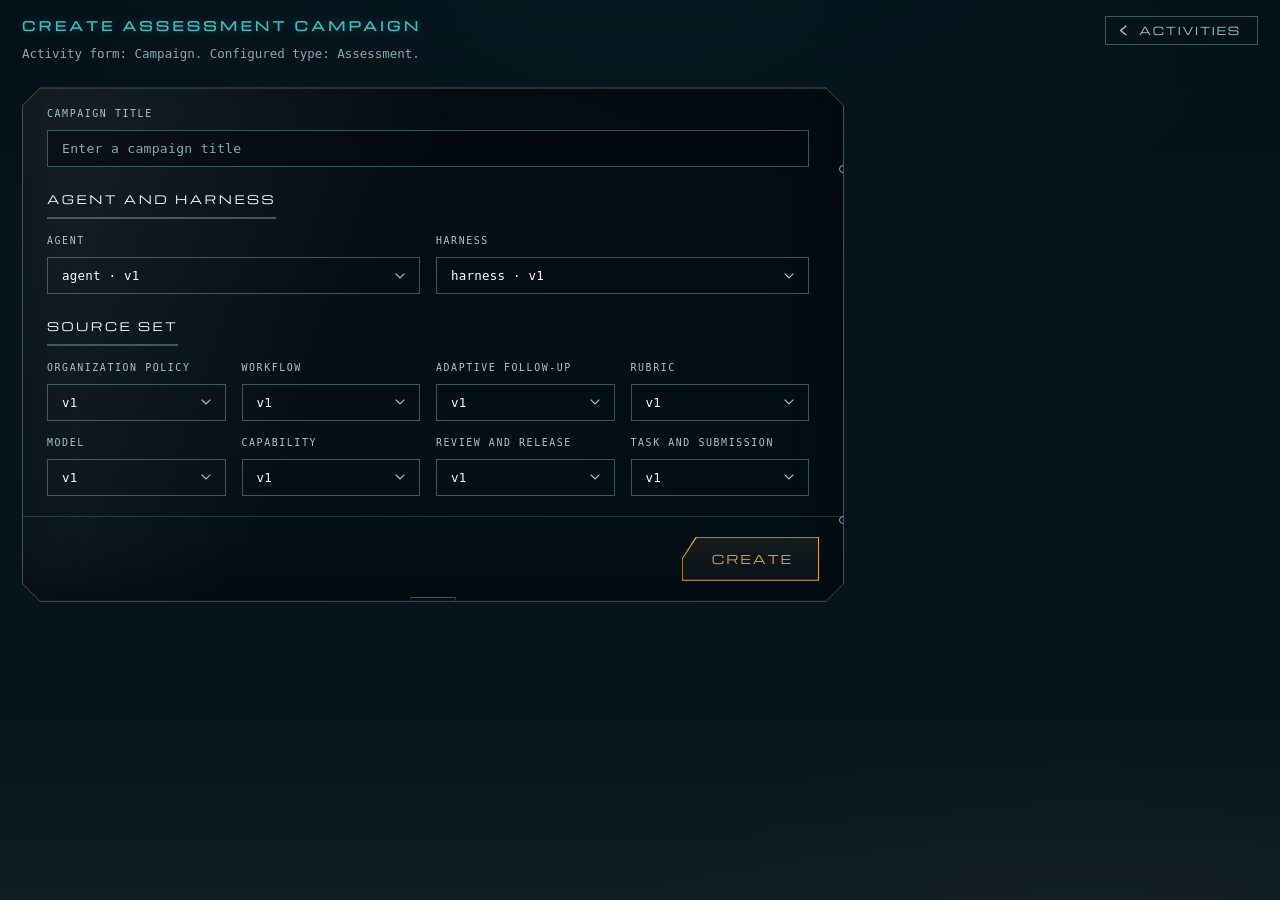
Test: AssessmentCampaignCreatePage › does not submit a client-invalid title and focuses the linked error summary
The image size is (1280, 900).
Click the button "Create" at (750, 559), box 682,537 -> 819,581
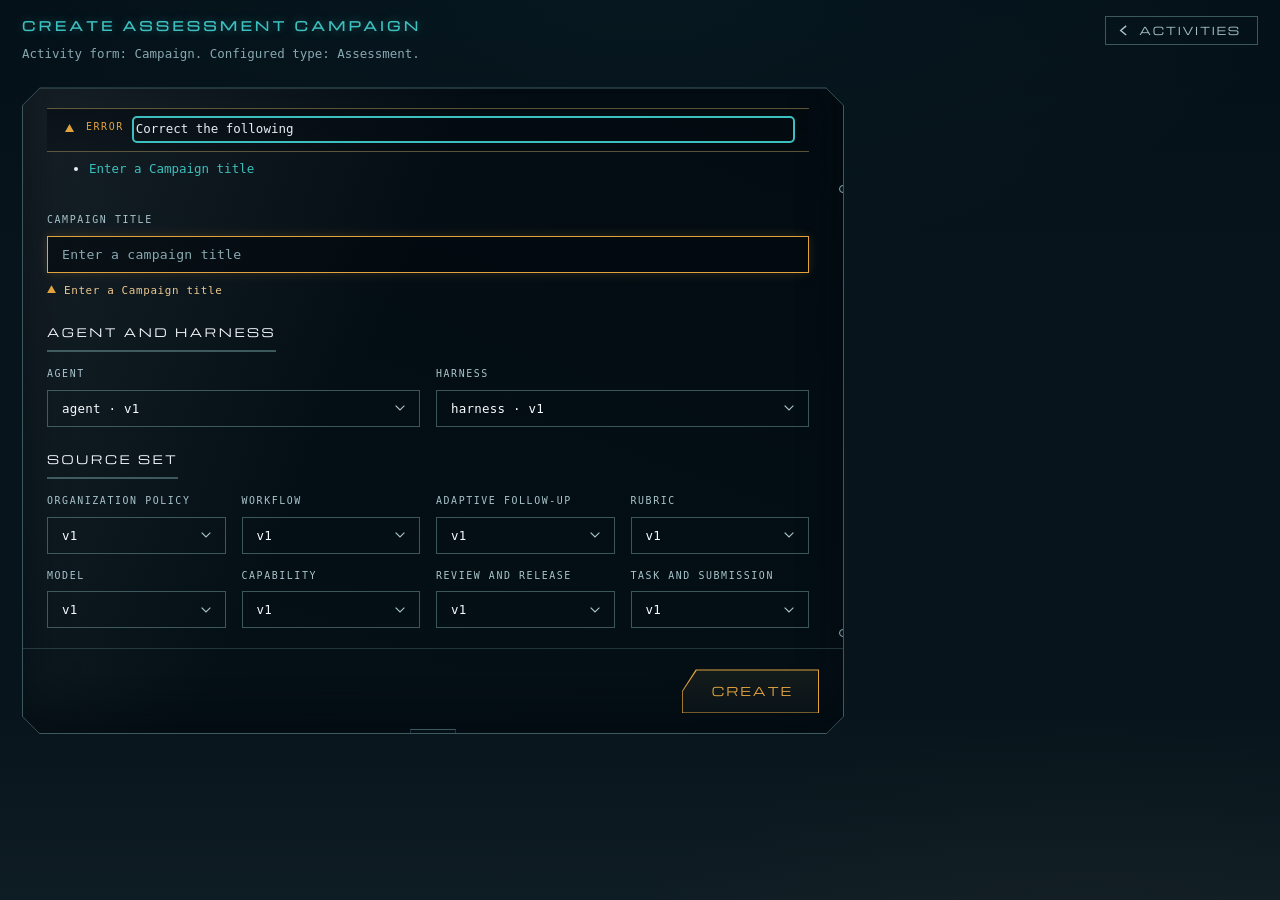
Check: the heading "Correct the following" is shown, box 136,121 -> 294,136
